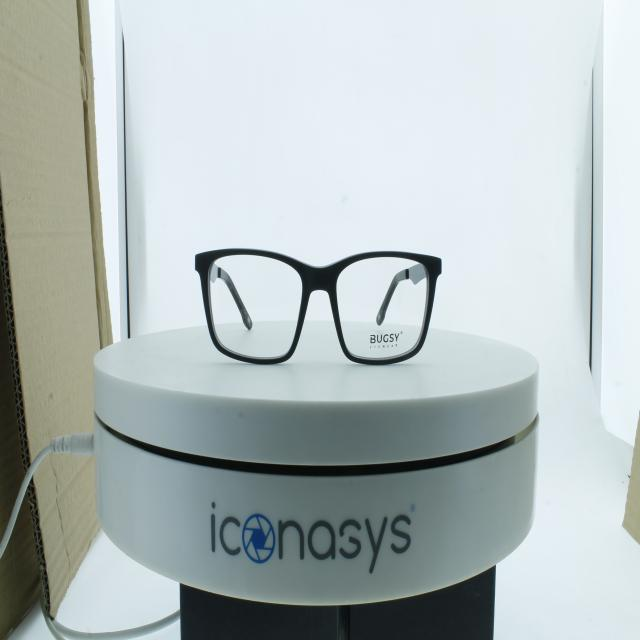Specs: (178, 209, 460, 382)
